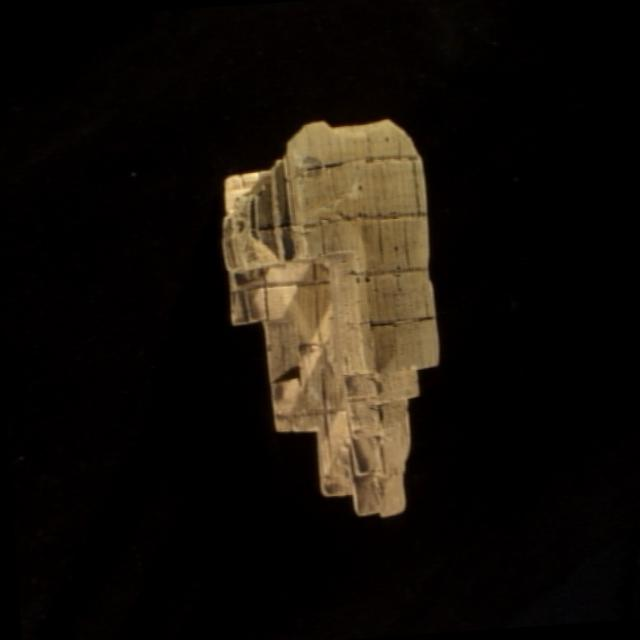Instance-Segmentation: (222, 120, 438, 514)
